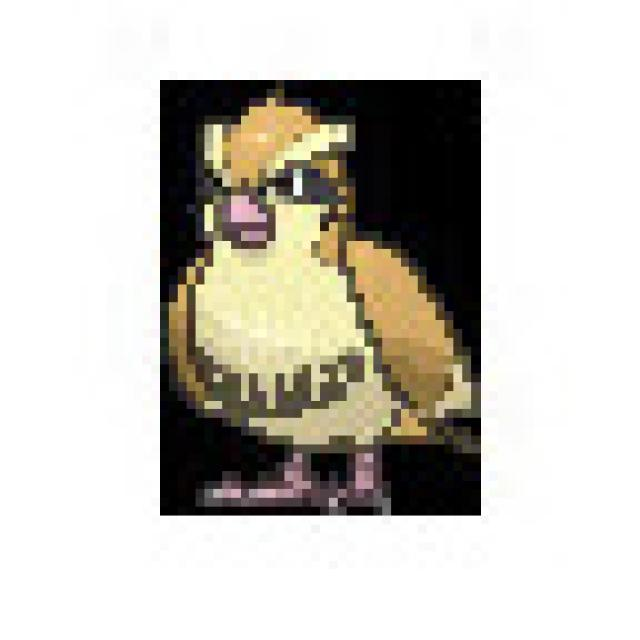Pidgey: (167, 93, 479, 519)
